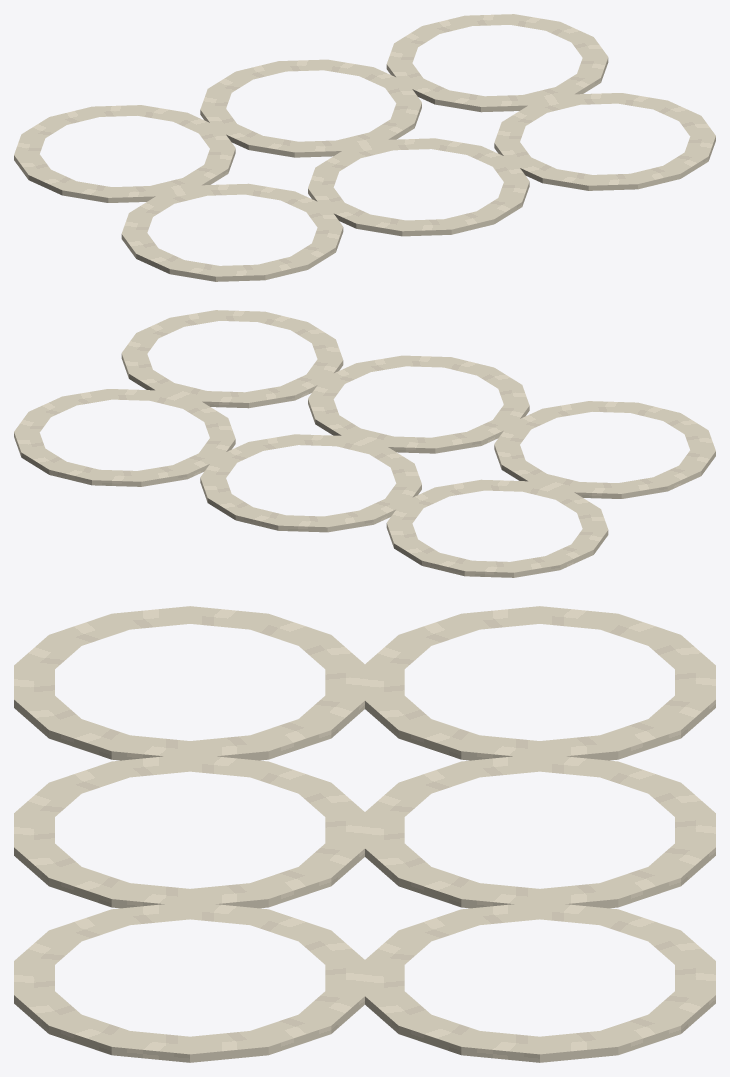
Rendered from six_pack_rings.glb.
3 renders of one model, top to bottom at view 1: azimuth 30°, elevation 25°; view 2: azimuth 150°, elevation 25°; view 3: azimuth 270°, elevation 25°, orthographic. The views are drawn at different scales.
Visible parts, largest first — view 1: block_outer edge (×6), block_plastic holder 4 (×6), block_plastic holder 11 (×6), block_plastic holder 12 (×6), block_plastic holder 5 (×6), block_plastic holder 2 (×6), block_plastic holder 8 (×6), block_plastic holder 3 (×6), block_plastic holder 9 (×6), block_plastic holder 1 (×6), block_plastic holder 13 (×6), block_plastic holder 10 (×6) (+3 smaller); view 2: block_outer edge (×6), block_plastic holder 9 (×6), block_plastic holder 1 (×6), block_plastic holder 2 (×6), block_plastic holder 8 (×6), block_plastic holder 3 (×6), block_plastic holder 11 (×6), block_plastic holder 5 (×6), block_plastic holder 4 (×6), block_plastic holder 12 (×6), block_plastic holder 0 (×6), block_plastic holder 10 (×6) (+3 smaller); view 3: block_outer edge (×6), block_plastic holder 1 (×6), block_plastic holder 12 (×6), block_plastic holder 5 (×6), block_plastic holder 8 (×6), block_plastic holder 2 (×6), block_plastic holder 4 (×6), block_plastic holder 9 (×6), block_plastic holder 11 (×6), block_plastic holder 3 (×6), block_plastic holder 13 (×6), block_plastic holder 6 (×6) (+3 smaller).
Part boxes in pixels (left/top/right/bottom): block_outer edge (×6): left=14, top=58, right=715, bottom=281; block_plastic holder 4 (×6): left=108, top=95, right=637, bottom=276; block_plastic holder 11 (×6): left=92, top=14, right=621, bottom=195; block_plastic holder 12 (×6): left=137, top=14, right=667, bottom=200; block_plastic holder 5 (×6): left=62, top=90, right=592, bottom=276; block_plastic holder 2 (×6): left=183, top=73, right=708, bottom=264; block_plastic holder 8 (×6): left=14, top=43, right=525, bottom=233; block_plastic holder 3 (×6): left=150, top=87, right=680, bottom=274; block_plastic holder 9 (×6): left=22, top=26, right=546, bottom=216; block_plastic holder 1 (×6): left=204, top=57, right=715, bottom=247; block_plastic holder 13 (×6): left=173, top=22, right=700, bottom=211; block_plastic holder 10 (×6): left=50, top=15, right=579, bottom=203; block_outer edge (×6): left=14, top=354, right=715, bottom=577; block_plastic holder 9 (×6): left=92, top=391, right=621, bottom=572; block_plastic holder 1 (×6): left=62, top=310, right=592, bottom=496; block_plastic holder 2 (×6): left=108, top=310, right=637, bottom=491; block_plastic holder 8 (×6): left=137, top=386, right=667, bottom=572; block_plastic holder 3 (×6): left=150, top=311, right=679, bottom=499; block_plastic holder 11 (×6): left=21, top=369, right=546, bottom=560; block_plastic holder 5 (×6): left=204, top=339, right=715, bottom=529; block_plastic holder 4 (×6): left=183, top=322, right=707, bottom=512; block_plastic holder 12 (×6): left=14, top=353, right=525, bottom=543; block_plastic holder 0 (×6): left=29, top=318, right=556, bottom=507; block_plastic holder 10 (×6): left=49, top=383, right=579, bottom=570; block_outer edge (×6): left=14, top=700, right=715, bottom=1062; block_plastic holder 1 (×6): left=49, top=719, right=479, bottom=1046; block_plastic holder 12 (×6): left=250, top=719, right=680, bottom=1046; block_plastic holder 5 (×6): left=49, top=613, right=479, bottom=941; block_plastic holder 8 (×6): left=250, top=613, right=680, bottom=941; block_plastic holder 2 (×6): left=14, top=695, right=430, bottom=1025; block_plastic holder 4 (×6): left=14, top=635, right=430, bottom=964; block_plastic holder 9 (×6): left=299, top=635, right=715, bottom=964; block_plastic holder 11 (×6): left=299, top=695, right=715, bottom=1025; block_plastic holder 3 (×6): left=14, top=665, right=404, bottom=994; block_plastic holder 13 (×6): left=190, top=735, right=617, bottom=1054; block_plastic holder 6 (×6): left=112, top=606, right=539, bottom=925.
Bounding box in the file's own units: 0.194 × 0.00171 × 0.1284.
1 material, 1 textured.
